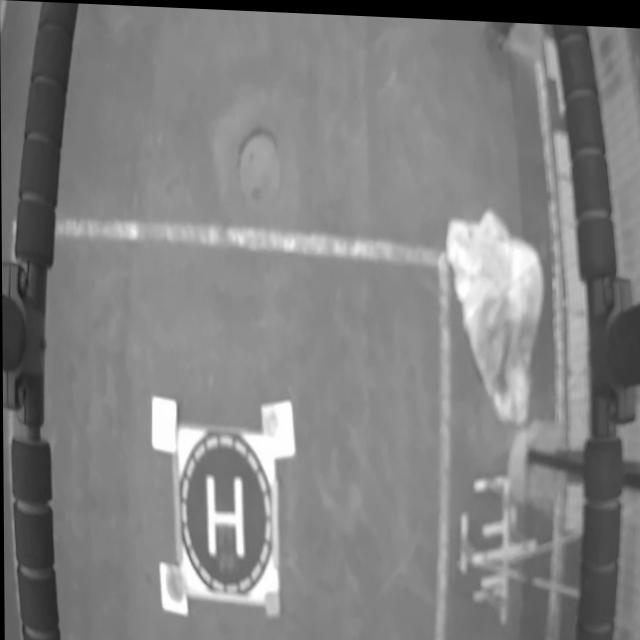Helipad: (206, 474, 244, 556)
